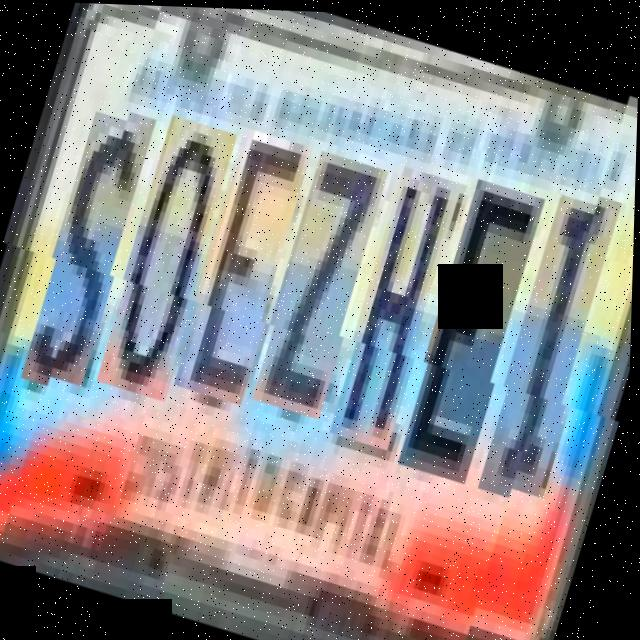E: (400, 174, 551, 482), (175, 124, 319, 405)
H: (331, 162, 468, 449)
I: (480, 189, 624, 504)
O: (98, 112, 244, 402)
S: (25, 100, 162, 388)
Z: (254, 147, 394, 418)
